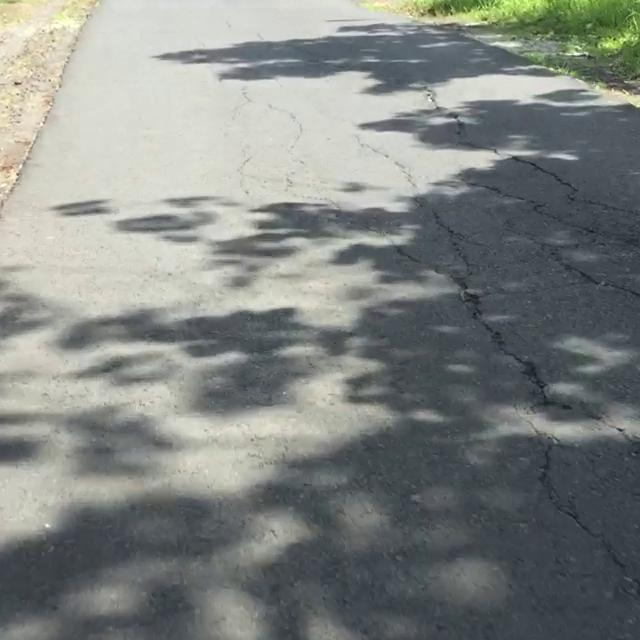retak_memanjang: (380, 173, 626, 539), (386, 63, 561, 179)
